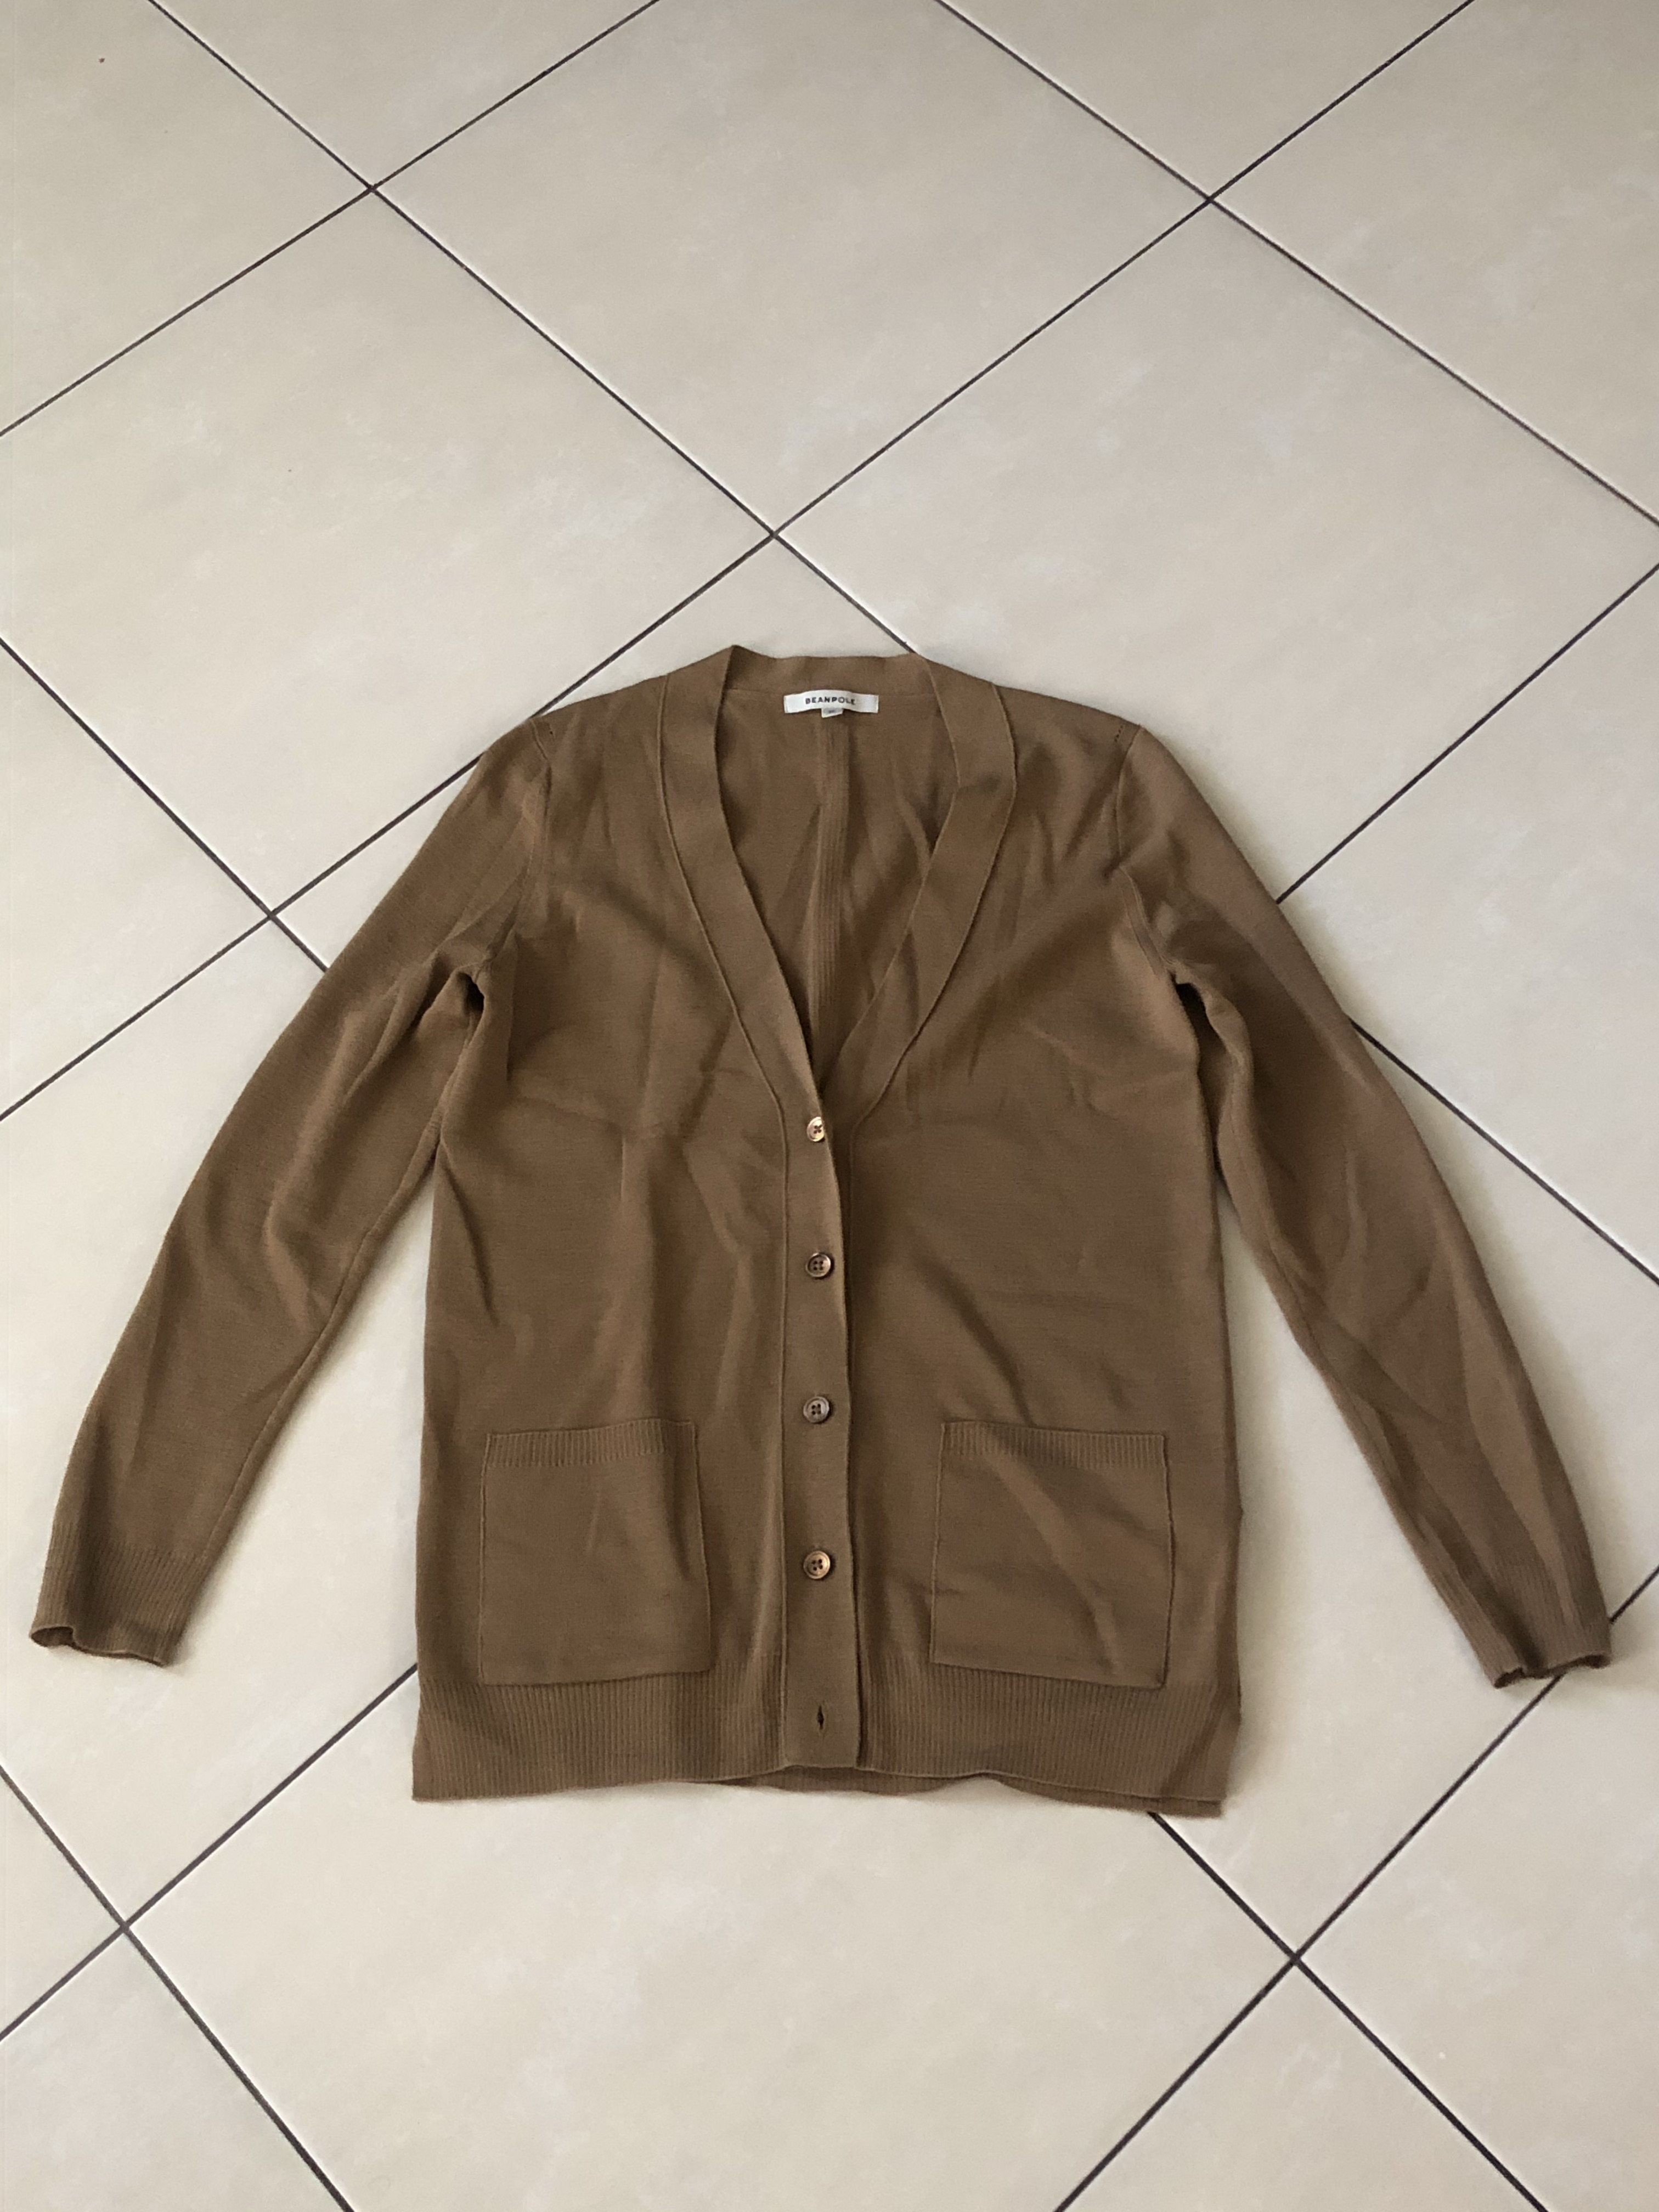clothes: (7, 632, 1635, 1836)
